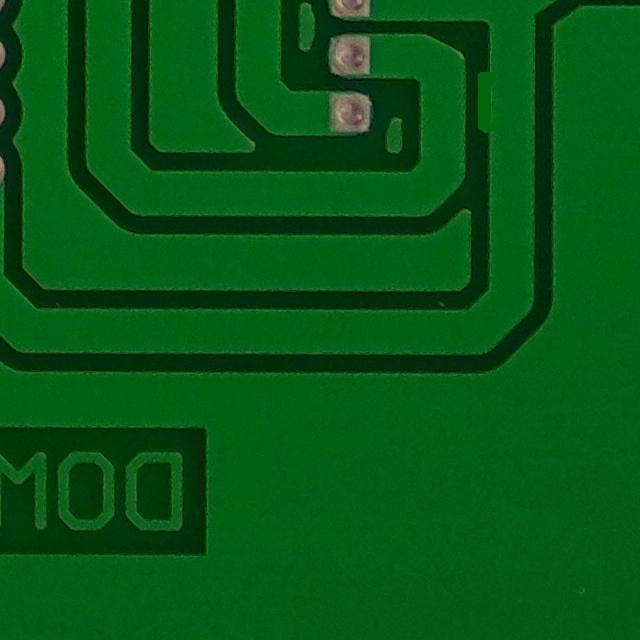spur: (468, 57, 515, 151)
